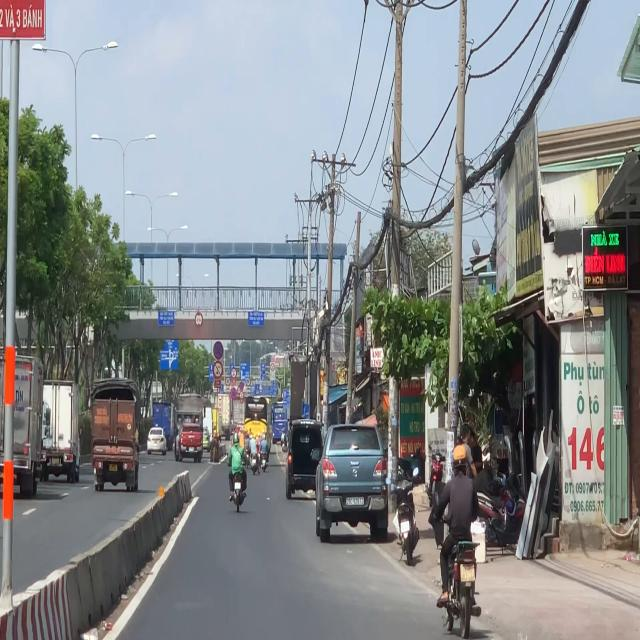Cam con lai: (212, 359, 222, 380)
Cam dung va do: (213, 341, 224, 360)
Chieu cao toi da: (194, 312, 203, 327)
